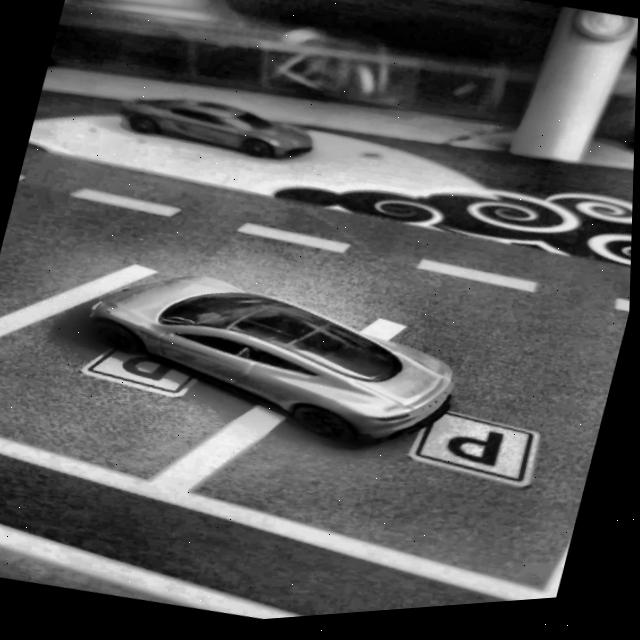car: (67, 238, 477, 485), (111, 77, 323, 182)
